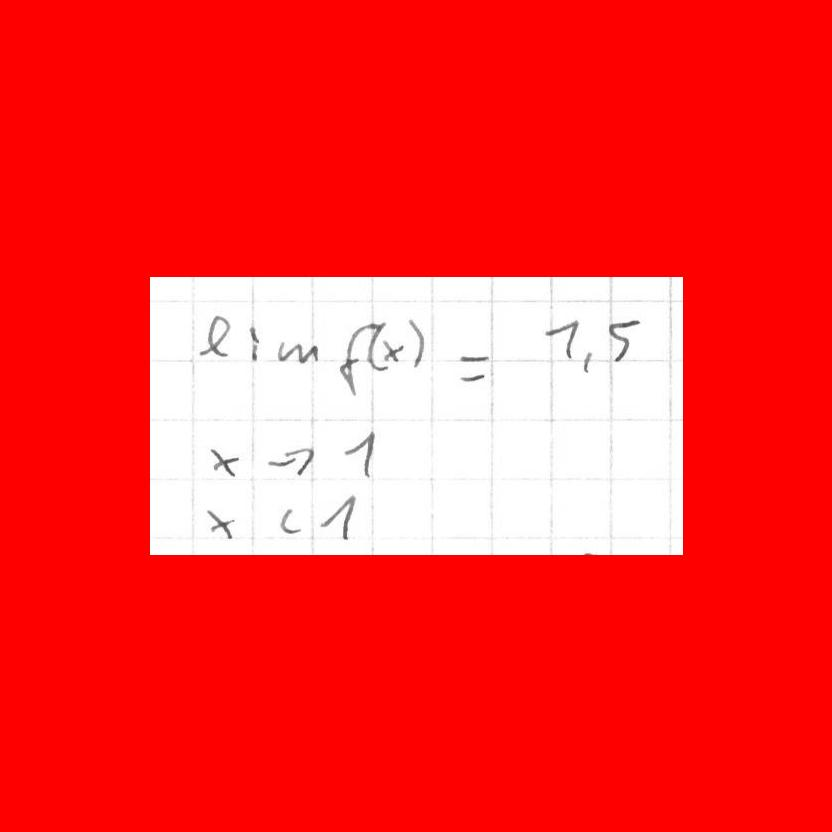Char: (337, 322, 371, 396), (315, 491, 359, 542), (340, 427, 381, 481), (263, 444, 319, 479), (539, 317, 580, 362), (196, 310, 231, 360), (606, 316, 641, 363), (202, 506, 237, 542), (276, 337, 321, 365), (455, 351, 492, 385), (365, 316, 387, 372), (205, 444, 240, 479), (406, 315, 426, 366), (274, 506, 304, 536), (379, 339, 406, 363), (247, 322, 262, 364), (579, 349, 597, 376)
